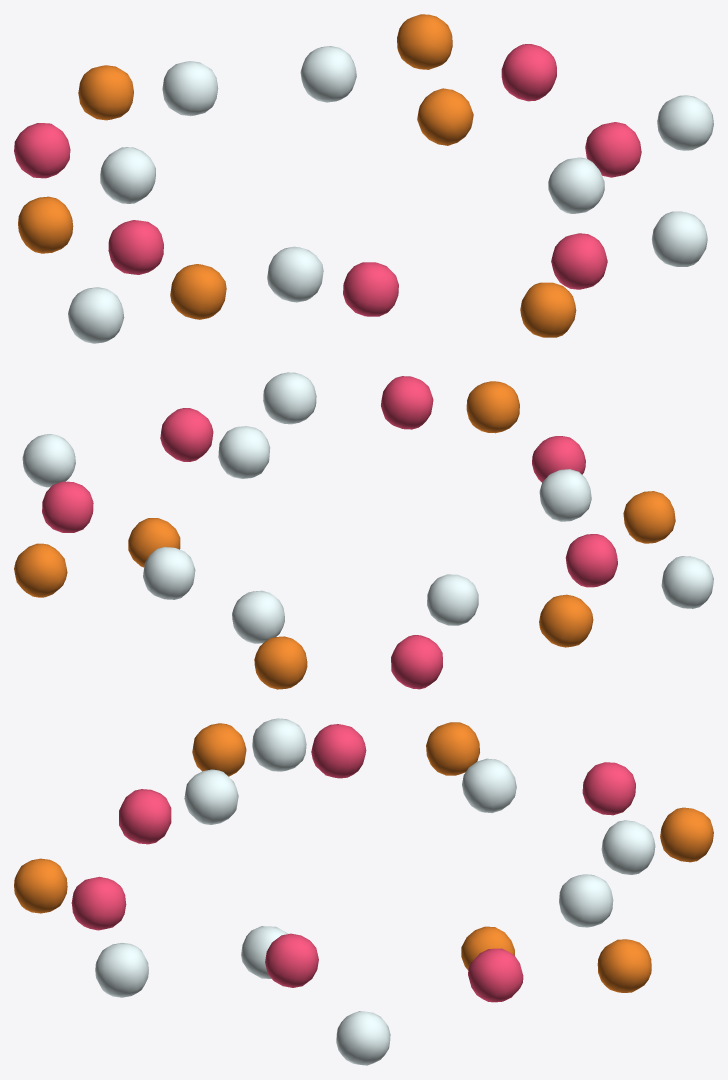
Rendered from Donutsprinkle_B_01.fbx.
3 views of the same model, one above another, from view 1: azimuth 30°, elevation 25°; view 2: azimuth 150°, elevation 25°; view 3: azimuth 270°, elevation 25° (orthographic). The views are drawn at different scales.
Visible parts, largest first — view 1: Donutsprinkle_B_01_LOD0; view 2: Donutsprinkle_B_01_LOD0; view 3: Donutsprinkle_B_01_LOD0.
Part boxes in pixels (x1=…): Donutsprinkle_B_01_LOD0: x1=14, y1=14, x2=713, y2=343; Donutsprinkle_B_01_LOD0: x1=14, y1=372, x2=713, y2=689; Donutsprinkle_B_01_LOD0: x1=14, y1=718, x2=713, y2=1065.
Size of what is drawn, in the model's own units: 524 by 61.15 by 481.
